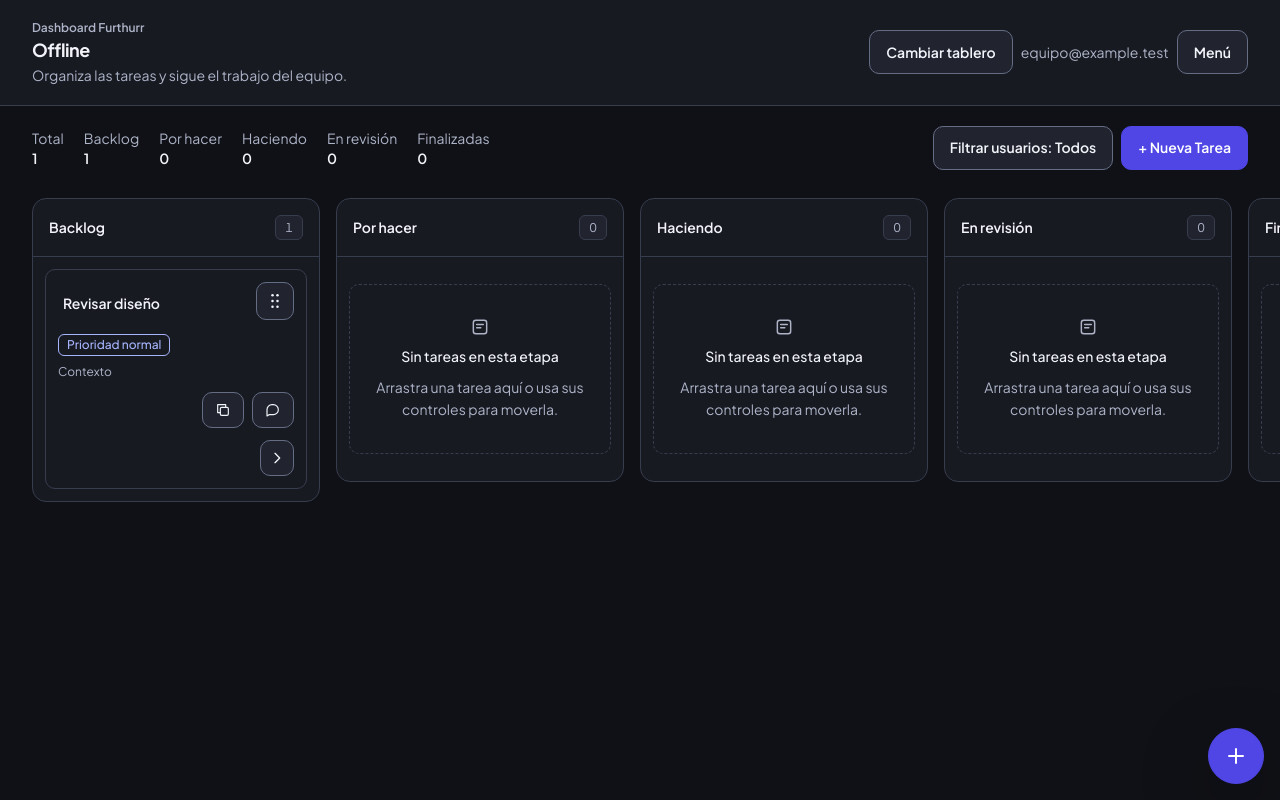
Test: Integración del tablero › consulta solo el tablero seleccionado y cierra el detalle si la tarea deja de pertenecerle
Step 1. Click the button "Revisar diseño" → point(153, 304), box 58,282 -> 248,326
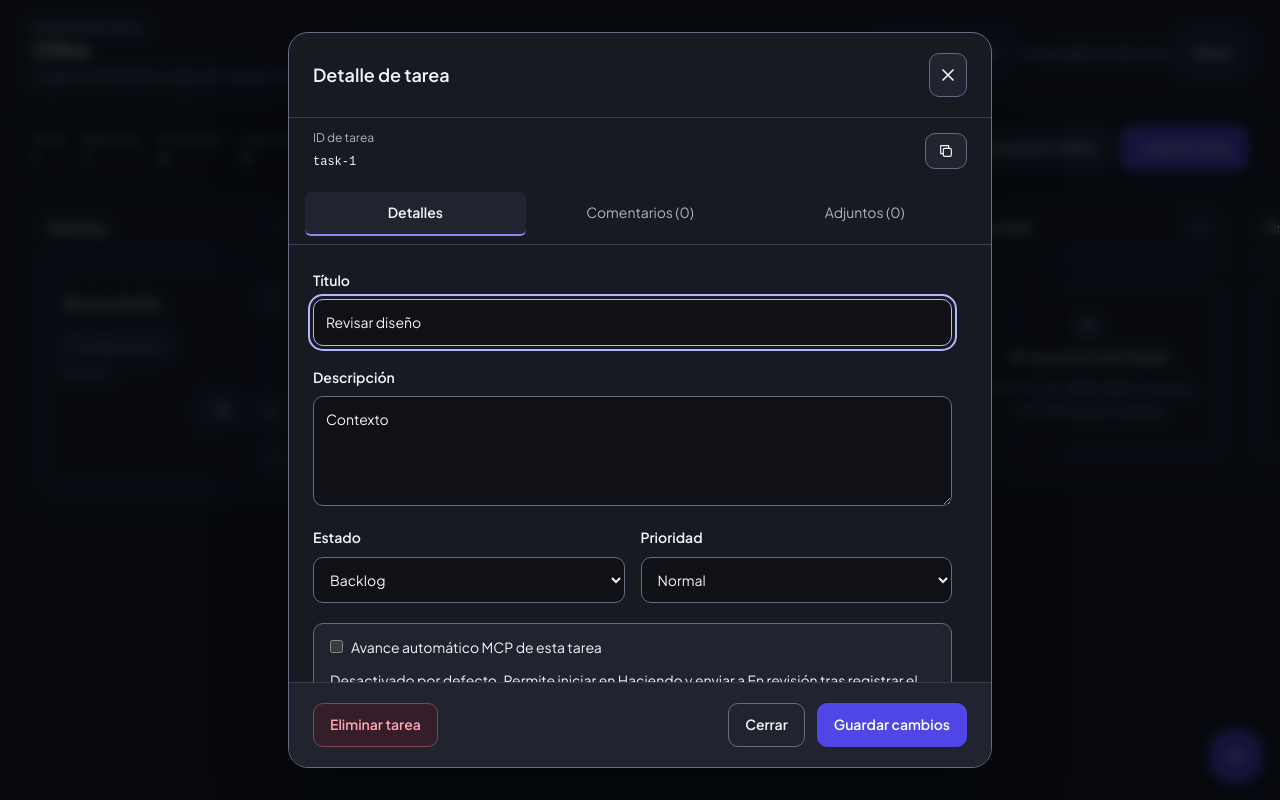
Check: the dialog is shown, box 288,32 -> 992,768
